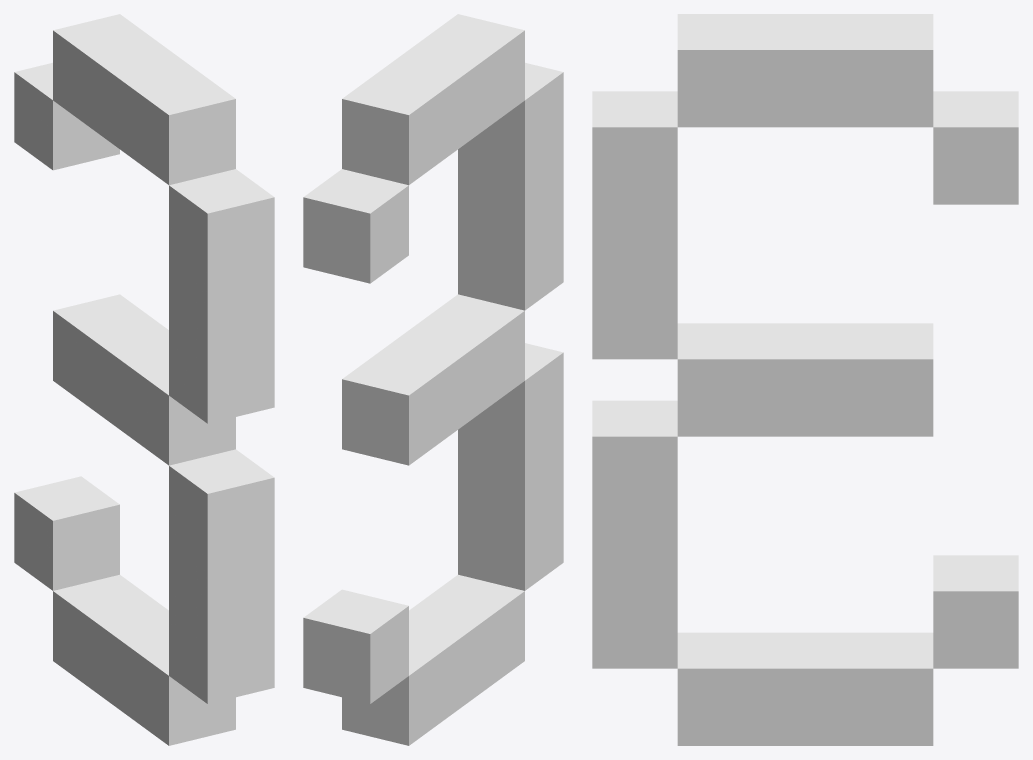
The model's file is dig_3.obj.
3 renders of one model, left to right at view 1: azimuth 30°, elevation 25°; view 2: azimuth 150°, elevation 25°; view 3: azimuth 270°, elevation 25°, orthographic. The views are drawn at different scales.
Size of the model in its own units: 0.1 by 0.9 by 0.5.
Materials: 1 (1 with a texture image).
